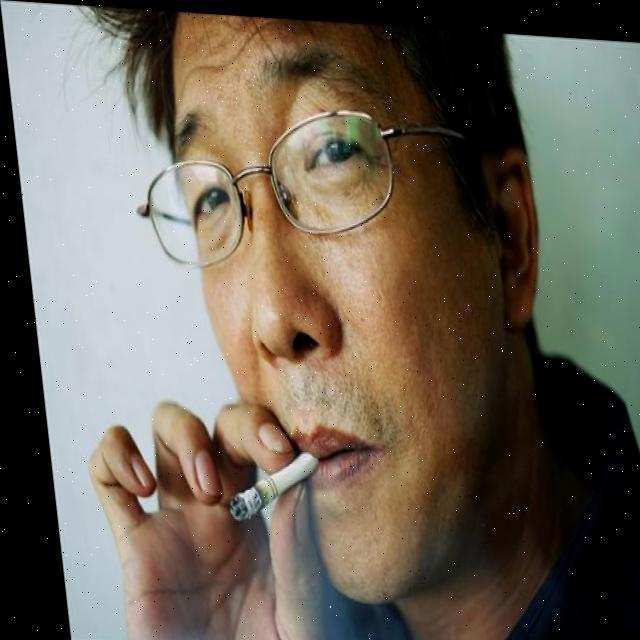cigarette: (212, 445, 311, 522)
